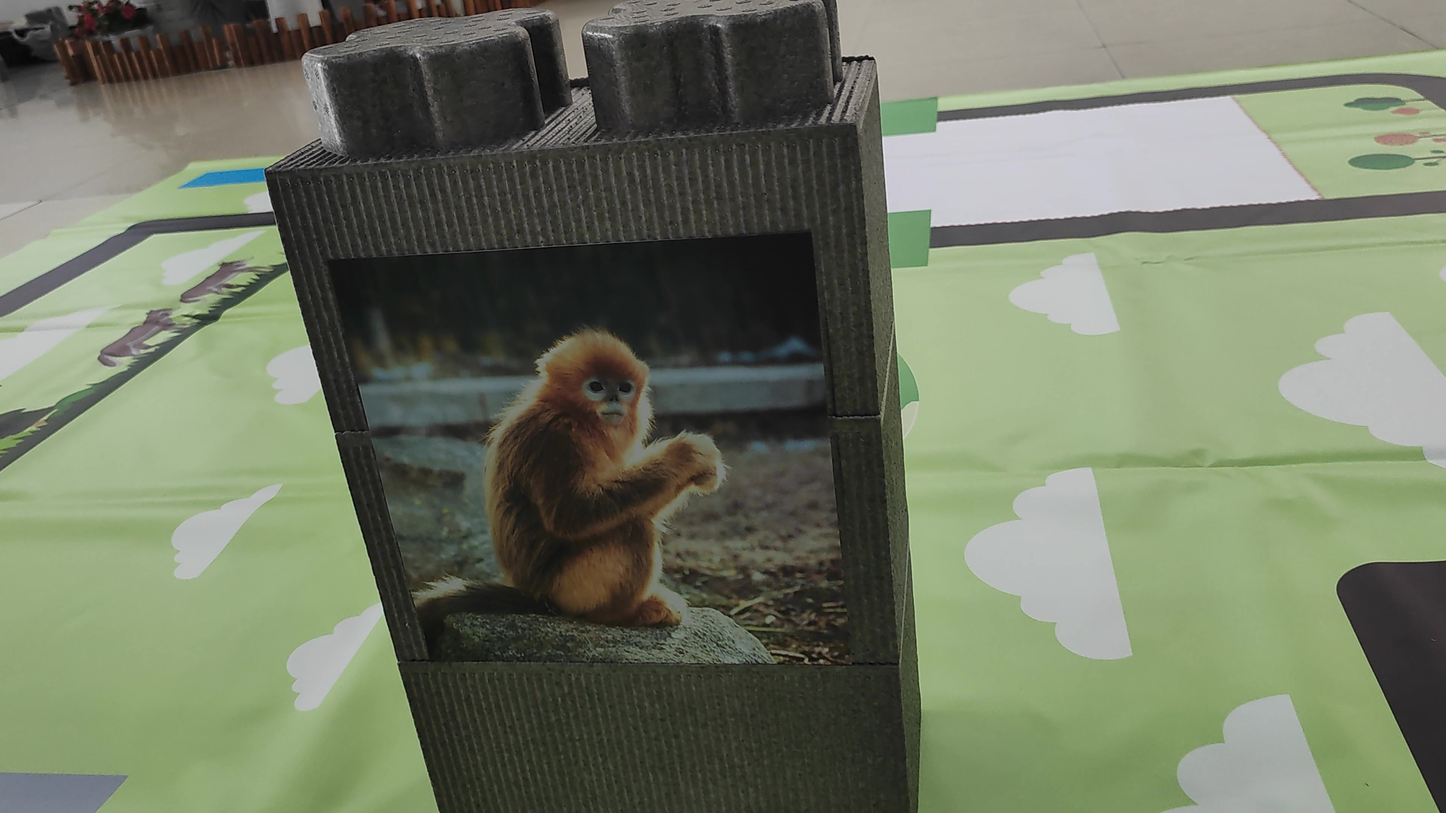monkey: (390, 315, 743, 655)
